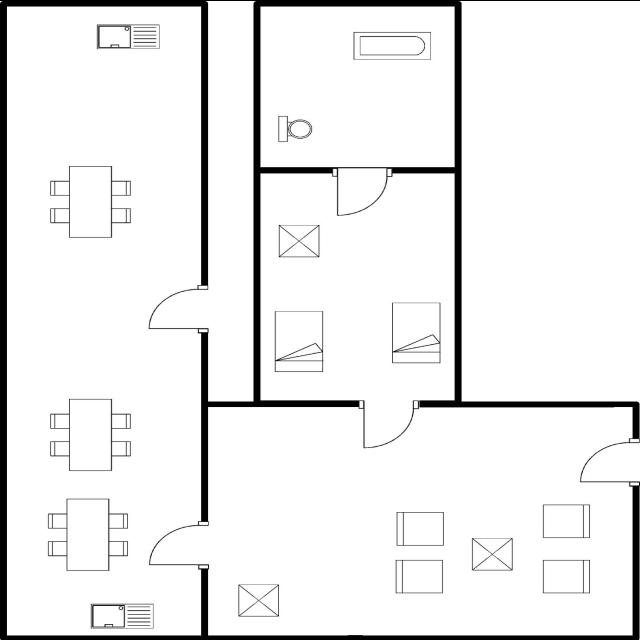bed: (268, 307, 328, 376), (387, 298, 443, 368)
coffee_table: (230, 578, 286, 620), (465, 534, 517, 574), (273, 222, 323, 260)
dining_table: (45, 158, 137, 242), (45, 390, 134, 476), (44, 492, 134, 576)
large_sink: (273, 111, 315, 148)
sink: (91, 19, 164, 54), (85, 598, 158, 632)
small_sofa: (538, 499, 598, 541), (538, 556, 596, 598), (392, 508, 449, 550), (389, 556, 446, 597)
tub: (348, 24, 438, 64)
